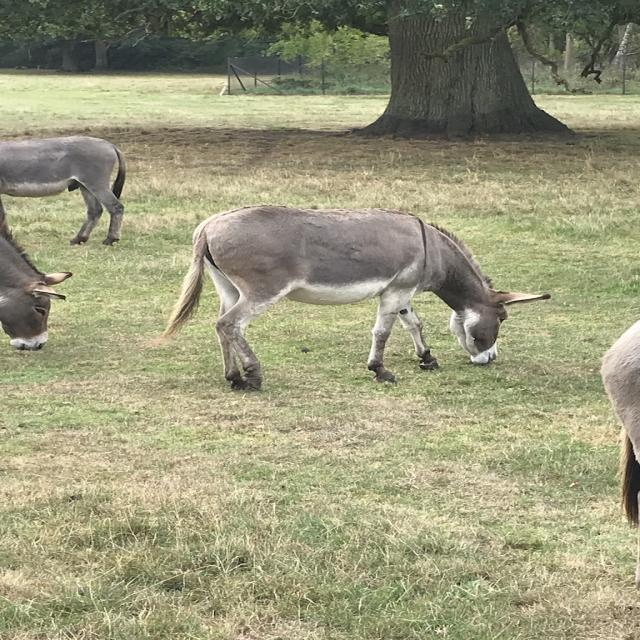Donkey: (159, 204, 554, 394), (0, 134, 128, 247), (597, 316, 640, 594), (0, 197, 74, 352)
